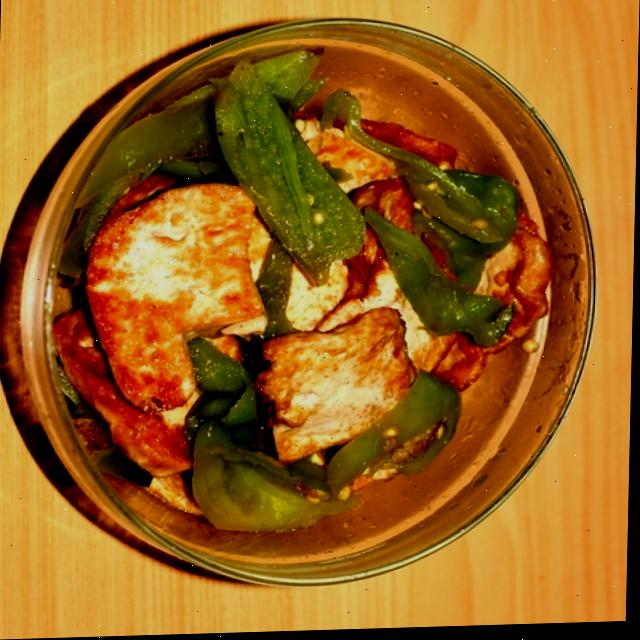豆腐料理: (20, 18, 592, 588)
